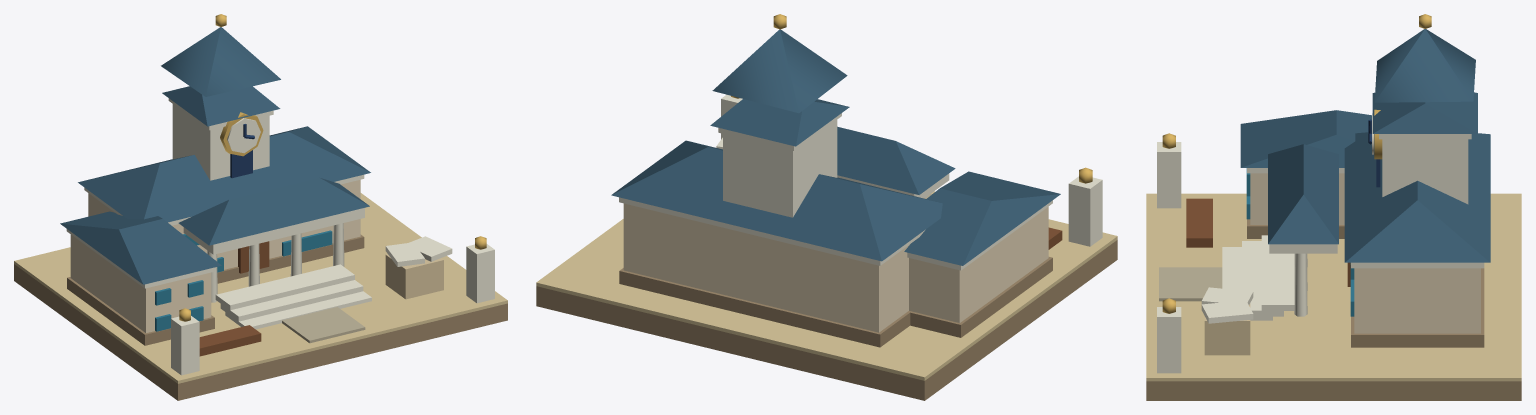
File: university-lv2.glb
3 views of the same model, side by side, from view 1: azimuth 30°, elevation 25°; view 2: azimuth 150°, elevation 25°; view 3: azimuth 270°, elevation 25° (orthographic). The views are drawn at different scales.
Parts seen in each view (by area): view 1: foundation_sand, lecture_hall_roof_roof, foundation_stoneDark, portico_pediment_roof, library_wing_roof_roof, entrance_steps_white, library_wing_cream, tower_cap_roof, clock_tower_white, campus_gate_white, clock_tower_roof_roof, book_plinth_stone (+15 smaller); view 2: lecture_hall_cream, foundation_sand, lecture_hall_roof_roof, foundation_stoneDark, clock_tower_white, library_wing_roof_roof, library_wing_cream, tower_cap_roof, portico_pediment_roof, lecture_hall_stoneDark, clock_tower_roof_roof, campus_gate_white (+3 smaller); view 3: foundation_sand, lecture_hall_roof_roof, lecture_hall_cream, foundation_stoneDark, portico_pediment_roof, tower_cap_roof, clock_tower_white, library_wing_roof_roof, entrance_steps_white, clock_tower_roof_roof, campus_gate_white, lecture_hall_stoneDark (+10 smaller).
Boxes of the visible parts, x1=… form: foundation_sand: x1=14, y1=193, x2=507, y2=383; lecture_hall_roof_roof: x1=78, y1=126, x2=370, y2=222; foundation_stoneDark: x1=14, y1=264, x2=507, y2=400; portico_pediment_roof: x1=178, y1=177, x2=369, y2=245; library_wing_roof_roof: x1=60, y1=211, x2=221, y2=284; entrance_steps_white: x1=215, y1=264, x2=371, y2=329; library_wing_cream: x1=70, y1=234, x2=211, y2=332; tower_cap_roof: x1=161, y1=27, x2=280, y2=96; clock_tower_white: x1=168, y1=98, x2=273, y2=180; campus_gate_white: x1=171, y1=244, x2=494, y2=375; clock_tower_roof_roof: x1=162, y1=86, x2=280, y2=126; book_plinth_stone: x1=385, y1=254, x2=443, y2=299; lecture_hall_cream: x1=623, y1=203, x2=909, y2=332; foundation_sand: x1=536, y1=191, x2=1117, y2=380; lecture_hall_roof_roof: x1=611, y1=140, x2=942, y2=261; foundation_stoneDark: x1=536, y1=240, x2=1117, y2=400; clock_tower_white: x1=718, y1=113, x2=841, y2=217; library_wing_roof_roof: x1=904, y1=171, x2=1060, y2=265; library_wing_cream: x1=909, y1=207, x2=1048, y2=322; tower_cap_roof: x1=712, y1=29, x2=847, y2=113; portico_pediment_roof: x1=837, y1=126, x2=955, y2=194; lecture_hall_stoneDark: x1=619, y1=268, x2=910, y2=347; clock_tower_roof_roof: x1=710, y1=99, x2=849, y2=146; campus_gate_white: x1=721, y1=94, x2=1102, y2=246; foundation_sand: x1=1146, y1=193, x2=1521, y2=381; lecture_hall_roof_roof: x1=1344, y1=132, x2=1490, y2=262; lecture_hall_cream: x1=1354, y1=268, x2=1480, y2=333; foundation_stoneDark: x1=1146, y1=381, x2=1521, y2=400; portico_pediment_roof: x1=1268, y1=144, x2=1338, y2=244; tower_cap_roof: x1=1374, y1=29, x2=1475, y2=102; clock_tower_white: x1=1379, y1=134, x2=1471, y2=204; library_wing_roof_roof: x1=1240, y1=110, x2=1371, y2=167; entrance_steps_white: x1=1222, y1=235, x2=1294, y2=320; clock_tower_roof_roof: x1=1372, y1=92, x2=1477, y2=133; campus_gate_white: x1=1157, y1=142, x2=1181, y2=373; lecture_hall_stoneDark: x1=1351, y1=268, x2=1484, y2=347.
Bounding box in the file's own units: 1 × 0.7459 × 0.8605.
